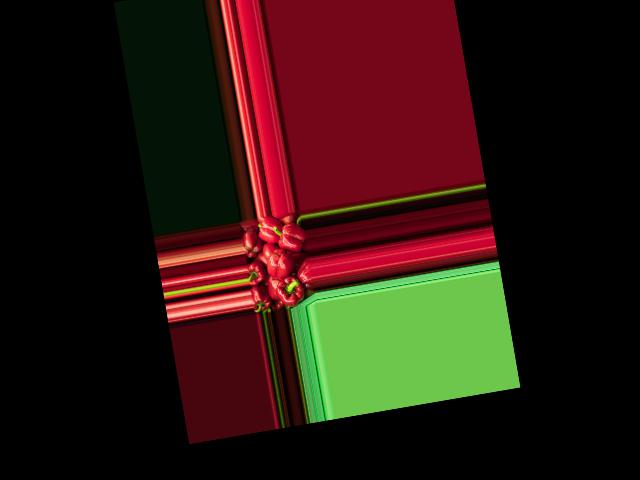bell_pepper: (250, 284, 272, 313)
